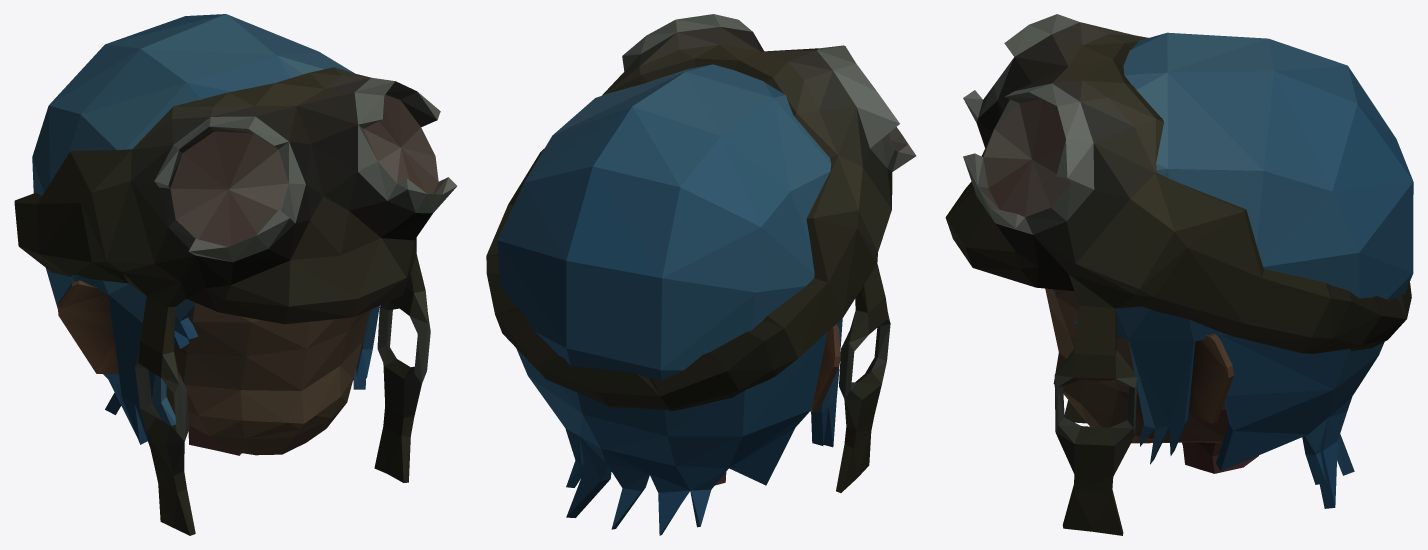
The model's file is helm_darkskin_standard_blue_goggles.fbx.
3 views of the same model, side by side, from view 1: azimuth 30°, elevation 25°; view 2: azimuth 150°, elevation 25°; view 3: azimuth 270°, elevation 25° (orthographic). The views are drawn at different scales.
Parts seen in each view (by area): view 1: helm_darkskin_standard_blue_goggles; view 2: helm_darkskin_standard_blue_goggles; view 3: helm_darkskin_standard_blue_goggles.
Part boxes in pixels (x1,y1,x2,y2): helm_darkskin_standard_blue_goggles: (14,14,456,535); helm_darkskin_standard_blue_goggles: (486,14,916,535); helm_darkskin_standard_blue_goggles: (945,14,1413,535).
Bounding box in the file's own units: 1.19 × 1.39 × 1.39.
